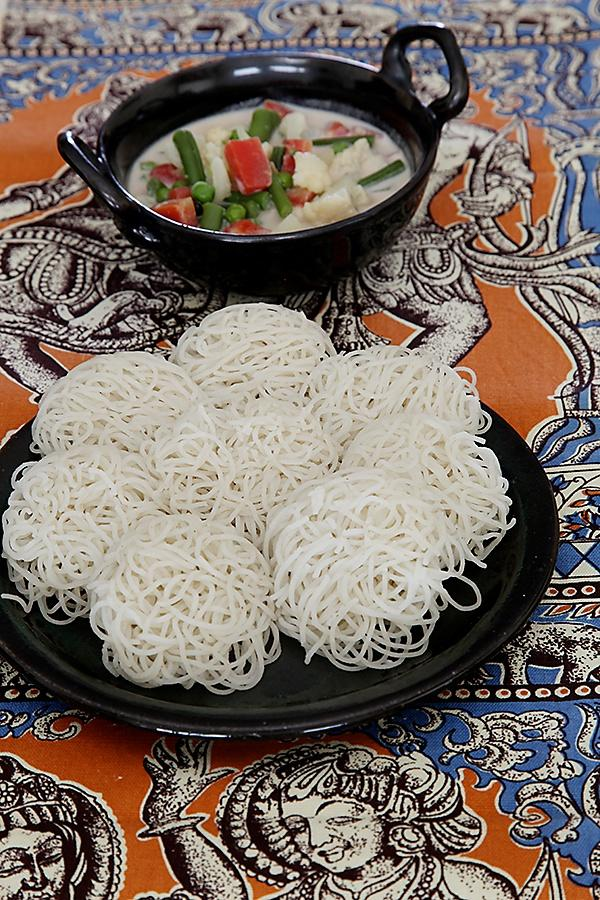String Hoppers: (4, 270, 583, 804)
